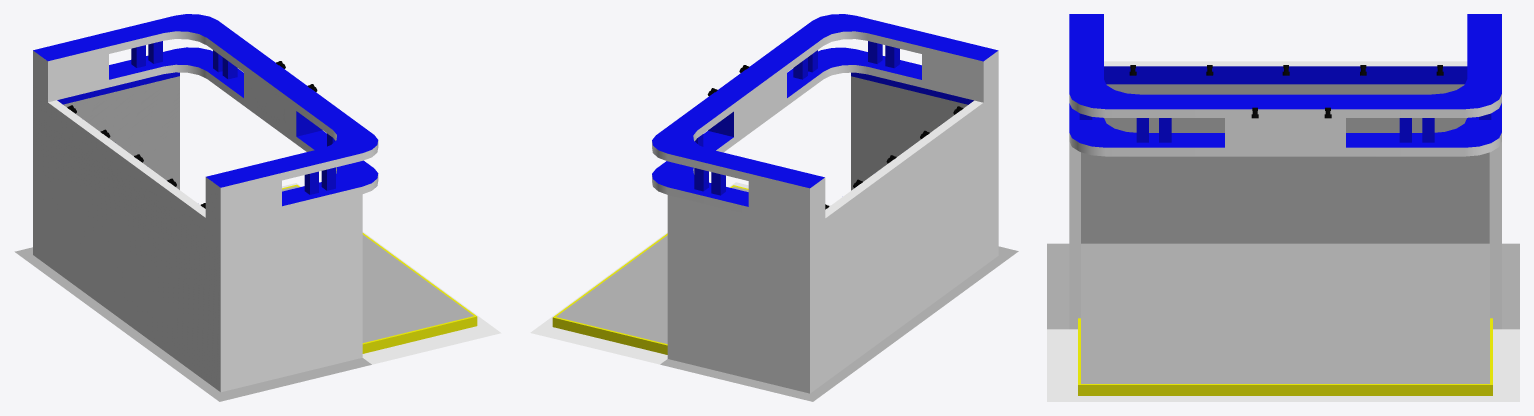
Rendered from type1-centerDraco.b6c7a8a8.glb.
3 views of the same model, side by side, from view 1: azimuth 30°, elevation 25°; view 2: azimuth 150°, elevation 25°; view 3: azimuth 270°, elevation 25° (orthographic). The views are drawn at different scales.
Visible parts, largest first — view 1: Stall.001, Base_AO; view 2: Stall.001, Base_AO; view 3: Stall.001, Base_AO, Roof_Lump_Lights.
Part boxes in pixels (box(x1,y1,x2,y2)): Stall.001: box(33, 14, 477, 392); Base_AO: box(14, 183, 501, 401); Stall.001: box(552, 14, 998, 393); Base_AO: box(530, 182, 1018, 401); Stall.001: box(1069, 14, 1501, 395); Base_AO: box(1047, 243, 1519, 401); Roof_Lump_Lights: box(1129, 65, 1443, 118).
Bounding box in the file's own units: 6.6 × 4.63 × 8.32.
